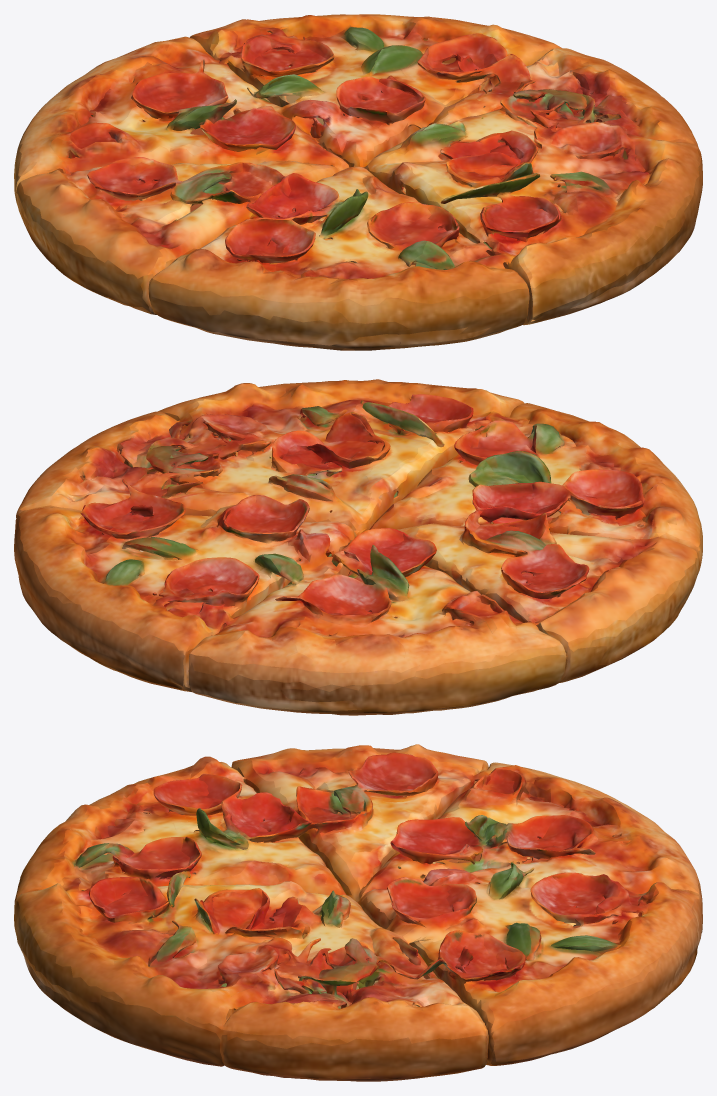
The picture shows the model from 3 angles, top to bottom: view 1: azimuth 30°, elevation 25°; view 2: azimuth 150°, elevation 25°; view 3: azimuth 270°, elevation 25°; orthographic projection.
Visible parts, largest first — view 1: geometry_0; view 2: geometry_0; view 3: geometry_0.
Part boxes in pixels (x1,y1,x2,y2): geometry_0: [14, 14, 702, 350]; geometry_0: [14, 379, 702, 715]; geometry_0: [14, 744, 702, 1081].
Size of the model in its own units: 0.3 by 0.0489 by 0.3003.
1 material, 1 textured.
